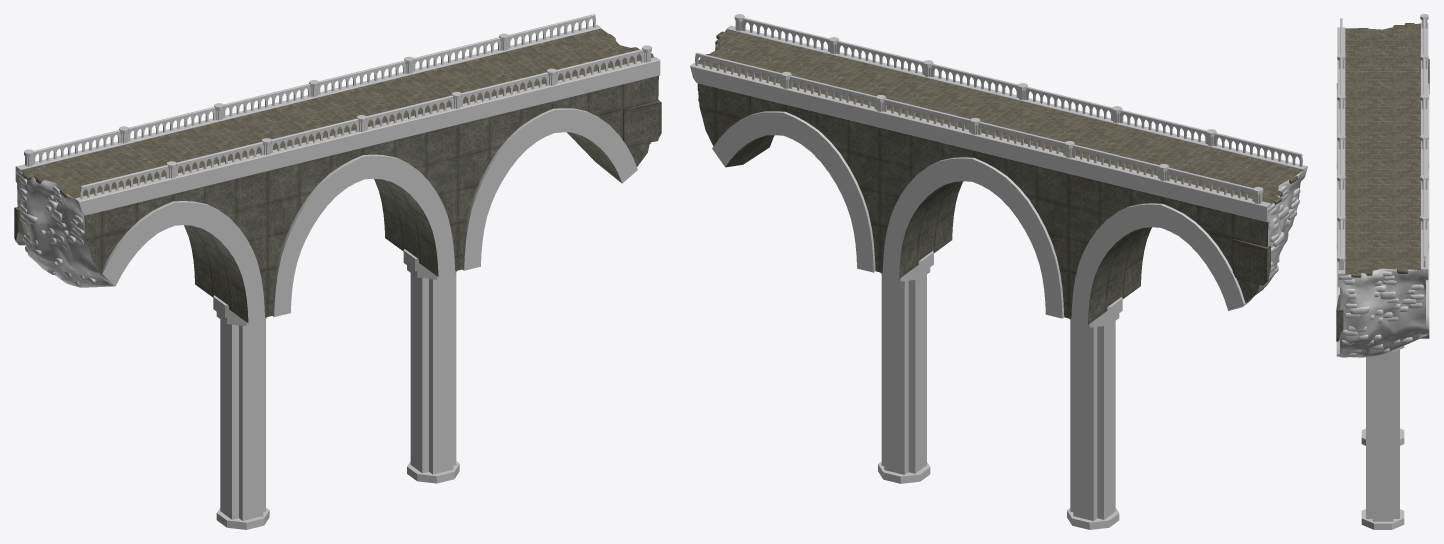
The model's file is Bridge.fbx.
The picture shows the model from 3 angles, left to right: view 1: azimuth 30°, elevation 25°; view 2: azimuth 150°, elevation 25°; view 3: azimuth 270°, elevation 25°; orthographic projection. The views are drawn at different scales.
Visible parts, largest first — view 1: bridge_destroyed_02; view 2: bridge_destroyed_02; view 3: bridge_destroyed_02.
Boxes of the visible parts, x1,y1,x2,y2 form: bridge_destroyed_02: (14,14,661,529); bridge_destroyed_02: (690,14,1307,529); bridge_destroyed_02: (1336,14,1429,529).
Bounding box in the file's own units: 5014 × 3187 × 786.
